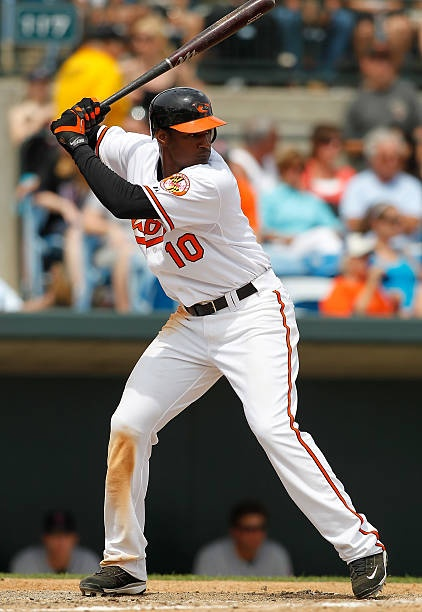bita: (65, 2, 279, 118)
